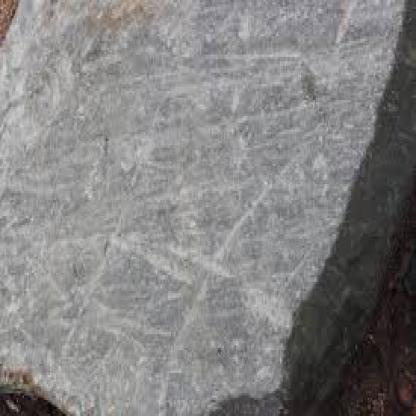Metamorphic_Quartize: (3, 7, 415, 414)
